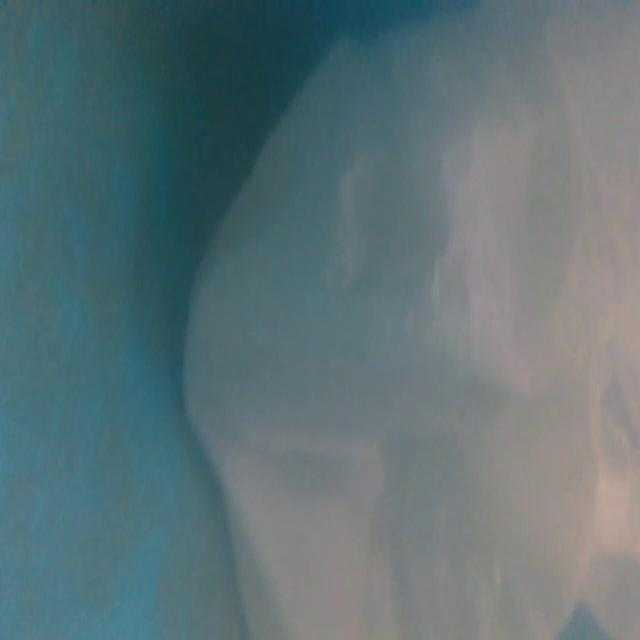plastic bags: (175, 5, 640, 635)
